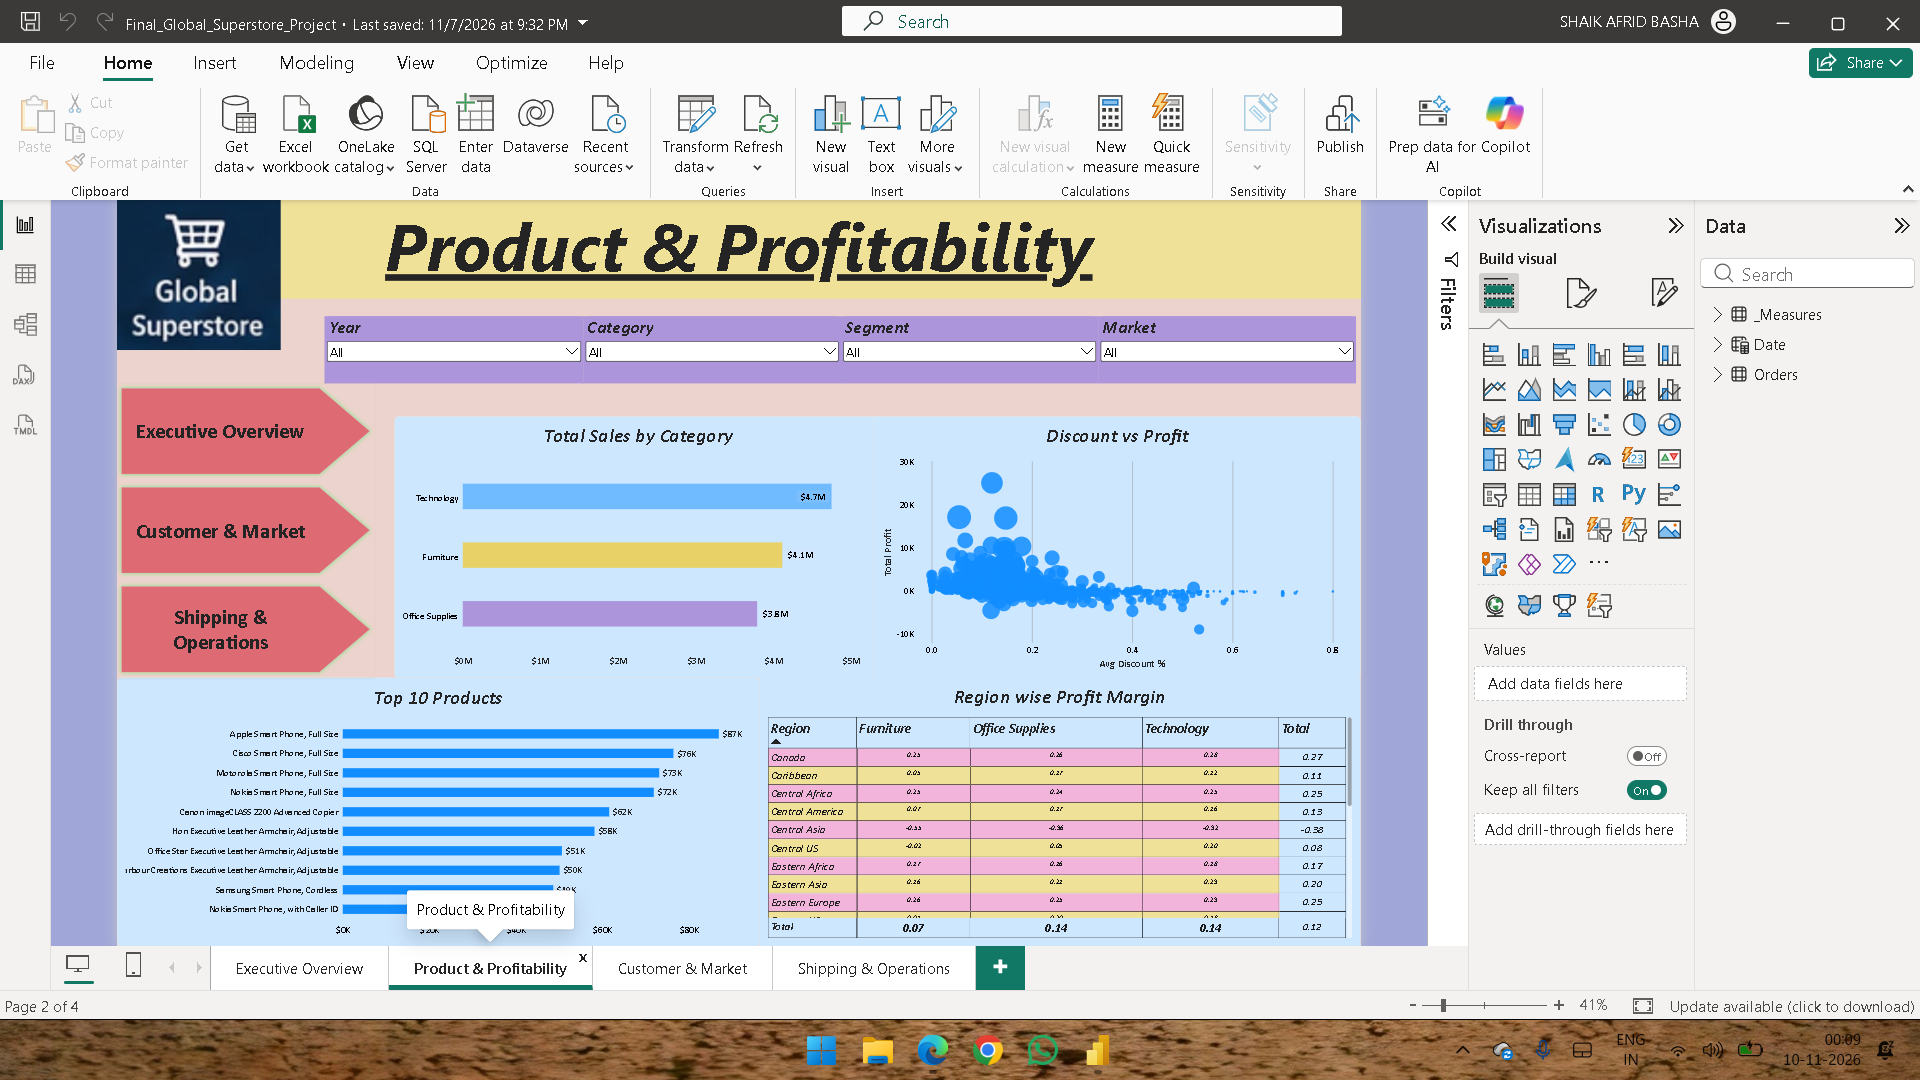

The page's visual inventory and layout, read from the dashboard file:
{"tool":"powerbi","page":{"name":"Product & Profitability","canvas":[2400,1440],"ordinal":1},"visuals":[{"type":"clusteredBarChart","fields":{"Category":["Orders.Category","Orders.Sub-Category"],"Y":["_Measures.Total Sales"]},"box":[535.3,416.3,940.8,505.5],"z":0},{"type":"scatterChart","title":" Discount vs Profit","fields":{"Category":["Orders.Product Name"],"Size":["_Measures.Total Sales"],"X":["_Measures.Avg Discount %"],"Y":["_Measures.Total Profit"]},"box":[1459.9,416.3,940.8,505.5],"z":1000},{"type":"clusteredBarChart","title":"Top 10 Products","fields":{"Category":["Orders.Product Name"],"Y":["_Measures.Total Sales"]},"box":[0,921.9,1240.9,519.1],"z":2000},{"type":"pivotTable","title":"Region wise Profit Margin ","fields":{"Columns":["Orders.Category"],"Rows":["Orders.Region"],"Values":["_Measures.Profit Margin %"]},"box":[1240.9,921.9,1159.8,519.1],"z":3000},{"type":"shape","box":[0,0,2562.9,190.6],"z":4000},{"type":"textbox","box":[129.8,0,2339.8,190.6],"z":5000},{"type":"slicer","fields":{"Values":["Date.Year"]},"box":[400.1,224.4,500.1,129.8],"z":7000},{"type":"pageNavigator","box":[0,354.1,497.4,567.7],"z":10000},{"type":"image","box":[0,0,316.1,289.5],"z":11000},{"type":"slicer","fields":{"Values":["Orders.Category"]},"box":[900.2,224.4,497.4,129.8],"z":11001},{"type":"slicer","fields":{"Values":["Orders.Segment"]},"box":[1397.7,224.4,497.4,129.8],"z":11002},{"type":"slicer","fields":{"Values":["Orders.Market"]},"box":[1895.1,224.4,497.4,129.8],"z":11003}]}

Visuals, with their boxes on the page's 2400x1440 design canvas (x1, y1, x2, y2). These are canvas units, not pixel positions in the 1920x1080 screenshot, which may show the page scaled, cropped or inside an application window:
clusteredBarChart - Orders.Category x Orders.Sub-Category: pyautogui.locateOnScreen(535, 416, 1476, 922)
" Discount vs Profit" scatterChart: pyautogui.locateOnScreen(1460, 416, 2401, 922)
"Top 10 Products" clusteredBarChart: pyautogui.locateOnScreen(0, 922, 1241, 1441)
"Region wise Profit Margin " pivotTable: pyautogui.locateOnScreen(1241, 922, 2401, 1441)
shape: pyautogui.locateOnScreen(0, 0, 2563, 191)
textbox: pyautogui.locateOnScreen(130, 0, 2470, 191)
slicer - Date.Year: pyautogui.locateOnScreen(400, 224, 900, 354)
pageNavigator: pyautogui.locateOnScreen(0, 354, 497, 922)
image: pyautogui.locateOnScreen(0, 0, 316, 290)
slicer - Orders.Category: pyautogui.locateOnScreen(900, 224, 1398, 354)
slicer - Orders.Segment: pyautogui.locateOnScreen(1398, 224, 1895, 354)
slicer - Orders.Market: pyautogui.locateOnScreen(1895, 224, 2392, 354)
